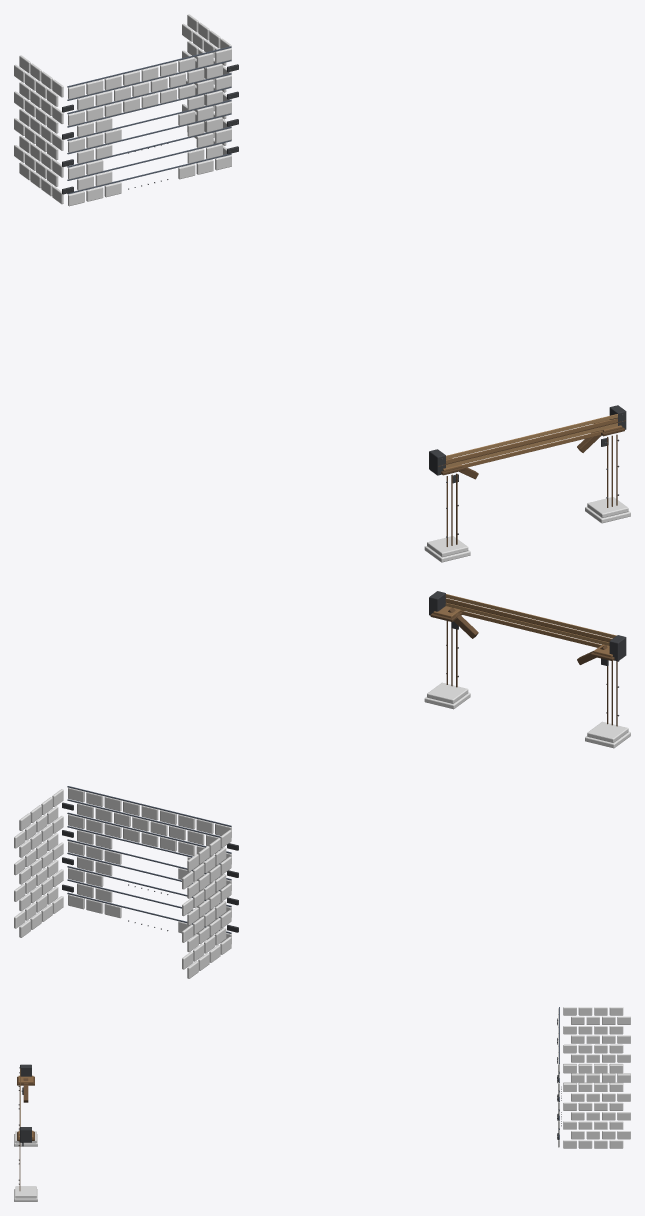
File: 13_Detalhes.fbx
3 renders of one model, top to bottom at view 1: azimuth 30°, elevation 25°; view 2: azimuth 150°, elevation 25°; view 3: azimuth 270°, elevation 25°, orthographic. The views are drawn at different scales.
Parts seen in each view (by area): view 1: VgTab_2, VgTab_3; view 2: VgTab_3, VgTab_2, VgTab_1, VgTab_0, PsBase2-1, PsBase21; view 3: no part large enough to name.
Part boxes in pixels (x1=…): VgTab_2: x1=446, y1=418, x2=617, y2=463; VgTab_3: x1=446, y1=414, x2=617, y2=459; VgTab_3: x1=445, y1=594, x2=616, y2=638; VgTab_2: x1=445, y1=598, x2=611, y2=641; VgTab_1: x1=445, y1=602, x2=609, y2=645; VgTab_0: x1=460, y1=610, x2=601, y2=647; PsBase2-1: x1=587, y1=721, x2=628, y2=742; PsBase21: x1=427, y1=682, x2=468, y2=703.
Bounding box in the file's own units: 3200 × 3063 × 12770.
